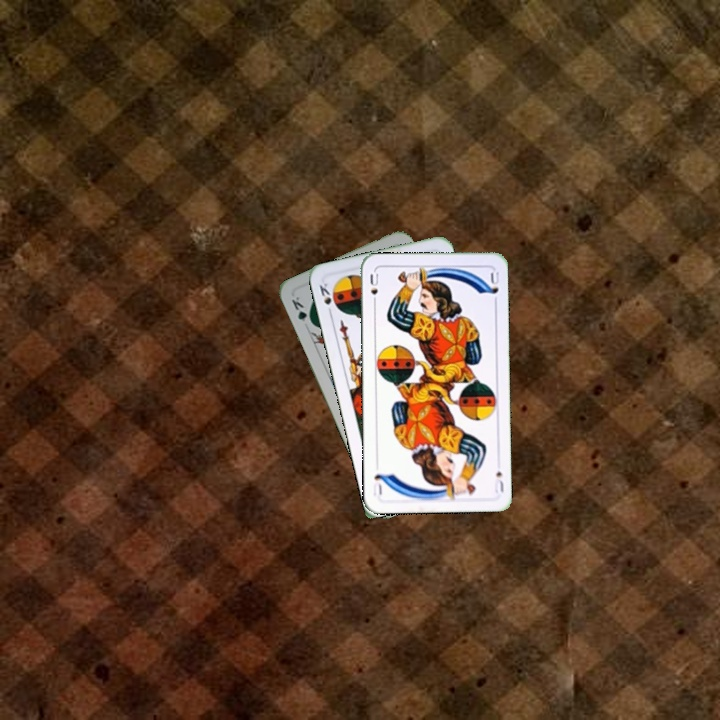GK: (287, 292, 315, 328)
SK: (315, 279, 334, 318)
SU: (366, 269, 382, 309), (490, 467, 506, 495)
